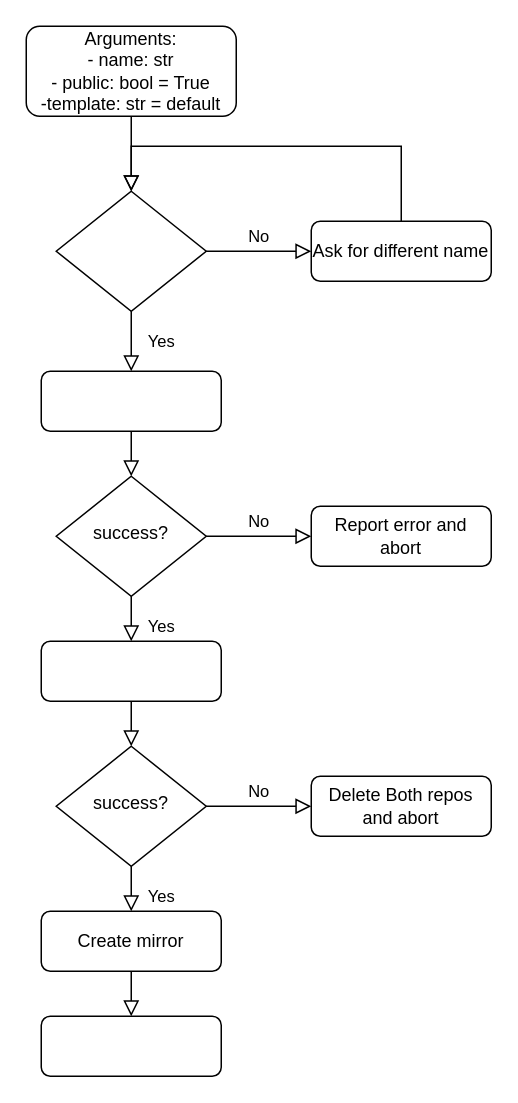
Image size: 518x1103. Some labels were removed from this diagram. Each missing label, with the box of its shape:
Create github repo: (40, 640, 221, 701)
Create gitlab repo: (40, 370, 221, 431)
Name available in both repos?: (55, 190, 206, 311)
Setup repo with template: (40, 1015, 221, 1076)
